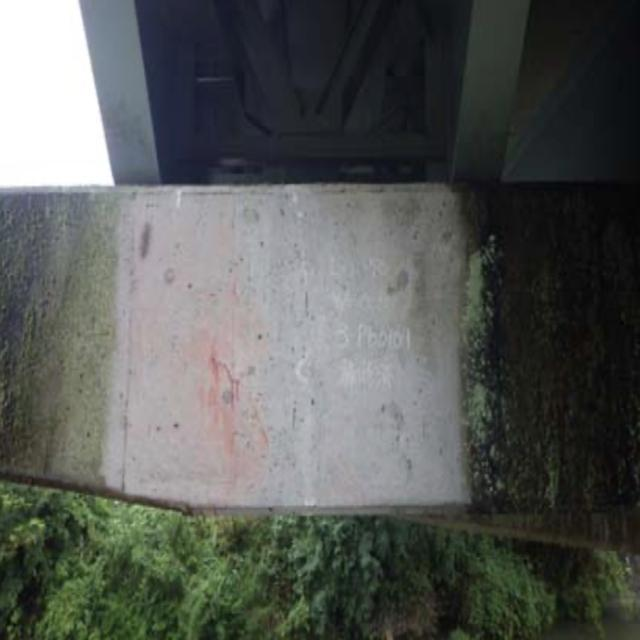leakage: (467, 154, 633, 533)
